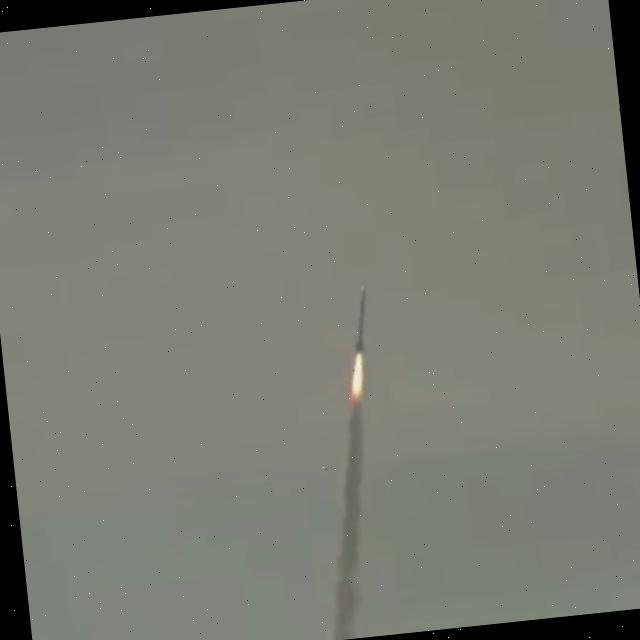smoke_trail_with_rocket: (329, 288, 369, 640)
